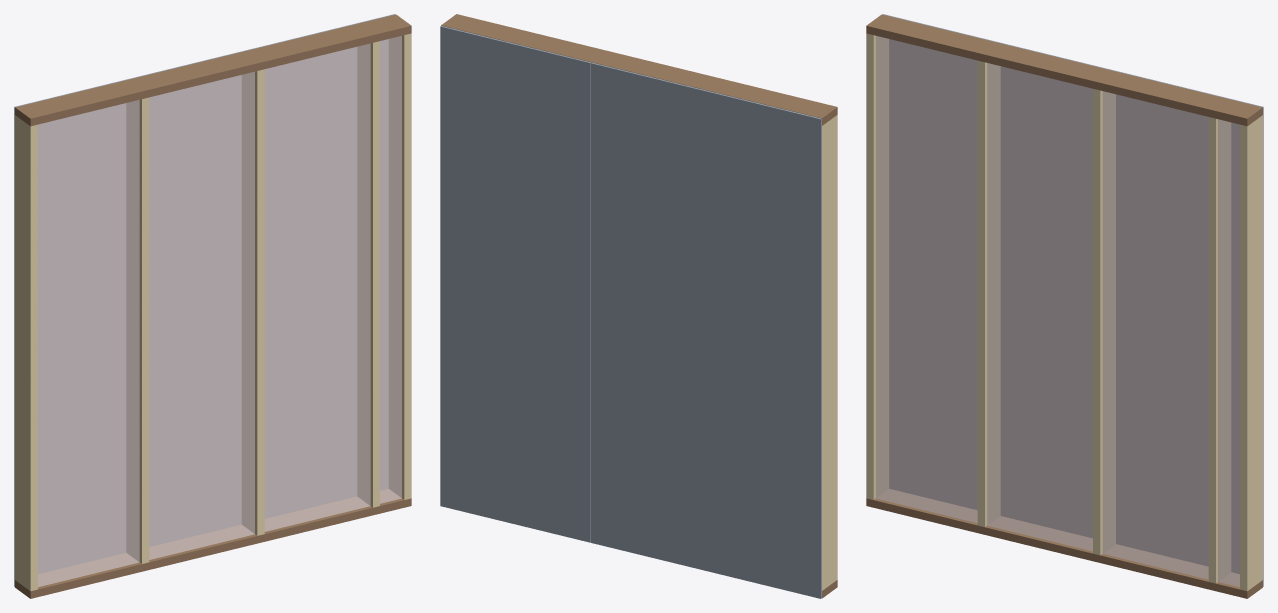
The picture shows the model from 3 angles, left to right: view 1: azimuth 30°, elevation 25°; view 2: azimuth 150°, elevation 25°; view 3: azimuth 330°, elevation 25°; orthographic projection.
Parts seen in each view (by area): view 1: EX3 GF; view 2: EX3 GF; view 3: EX3 GF.
Part boxes in pixels (left/top/right/bottom): EX3 GF: left=14, top=14, right=411, bottom=598; EX3 GF: left=440, top=14, right=837, bottom=598; EX3 GF: left=866, top=14, right=1263, bottom=598.
Bounding box in the file's own units: 1.98 × 2.39 × 0.149.
